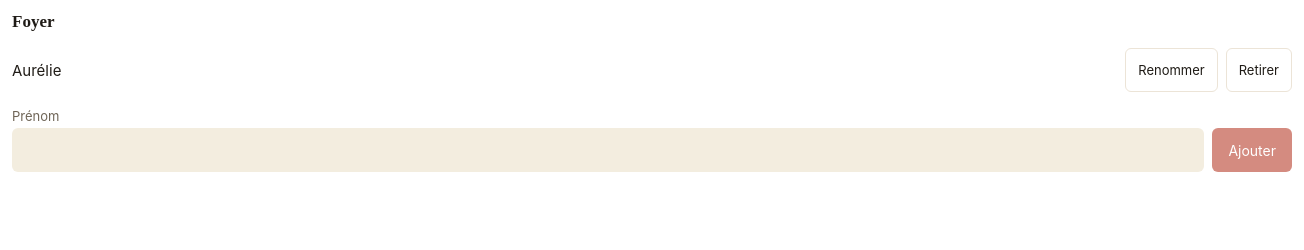
Scenario: ConvivesContainer › ajoute le prénom saisi : le use case reçoit ce prénom et le convive rejoint la liste affichée
This screenshot has width=1304, height=250.
Expected: the text "Aurélie" is shown, x1=12 y1=60 x2=61 y2=80
Type "Rory" into the field labelled "Prénom" at (608, 150), box x1=12 y1=128 x2=1204 y2=172
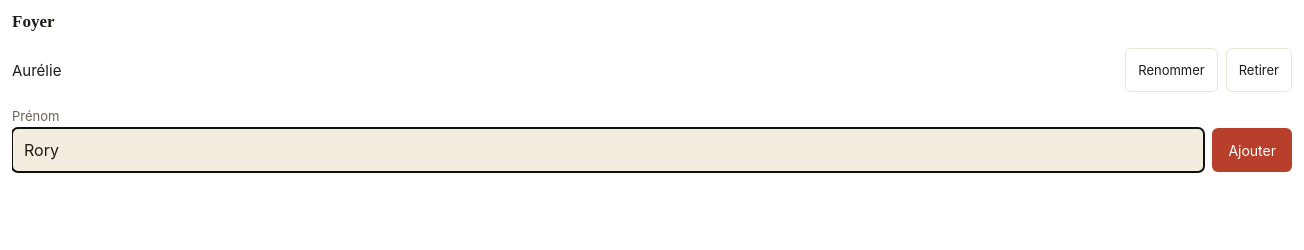
Click the button "Ajouter" at (1252, 150), box x1=1212 y1=128 x2=1292 y2=172
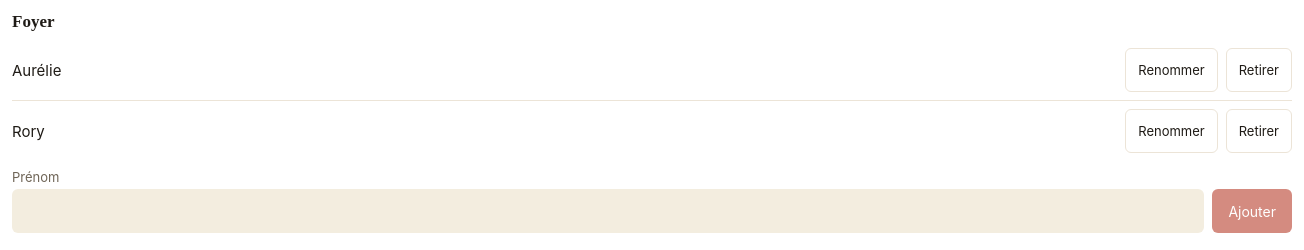
Expected: the text "Rory" is shown, x1=12 y1=122 x2=45 y2=140
